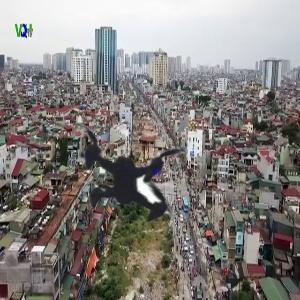drone: (9, 74, 235, 300)
